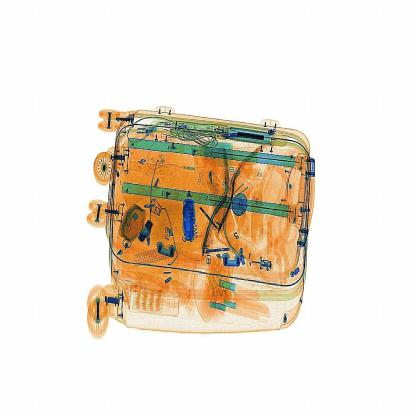scissors: (178, 195, 202, 244)
